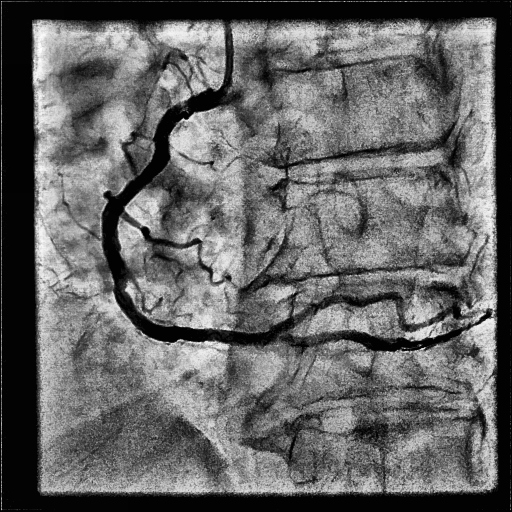pborca: (272, 291, 462, 332)
pda: (274, 314, 491, 352)
rca: (102, 88, 274, 346)
